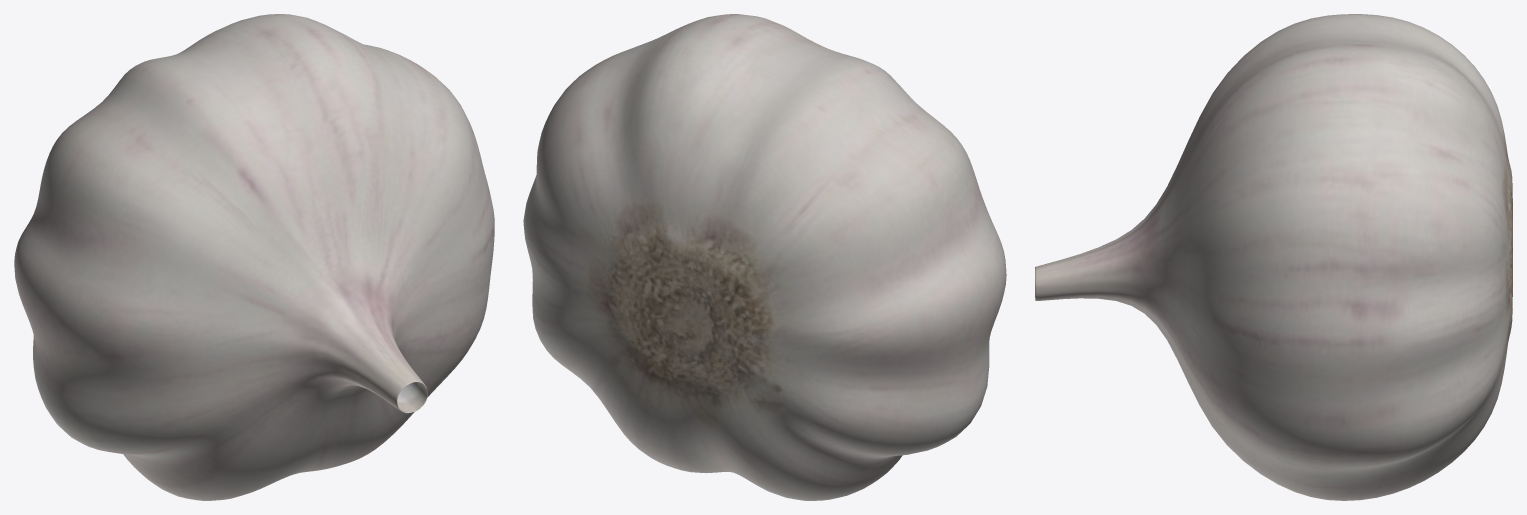
Rendered from GarlicPeel.obj.
3 renders of one model, left to right at view 1: azimuth 30°, elevation 25°; view 2: azimuth 150°, elevation 25°; view 3: azimuth 270°, elevation 25°, orthographic.
Parts seen in each view (by area): view 1: GarlicPeel; view 2: GarlicPeel; view 3: GarlicPeel.
Part boxes in pixels (x1=…): GarlicPeel: x1=14, y1=14, x2=494, y2=500; GarlicPeel: x1=523, y1=14, x2=1006, y2=500; GarlicPeel: x1=1035, y1=14, x2=1512, y2=500.
Size of the model in its own units: 0.0728 by 0.0689 by 0.0681.
Materials: 1 (1 with a texture image).
